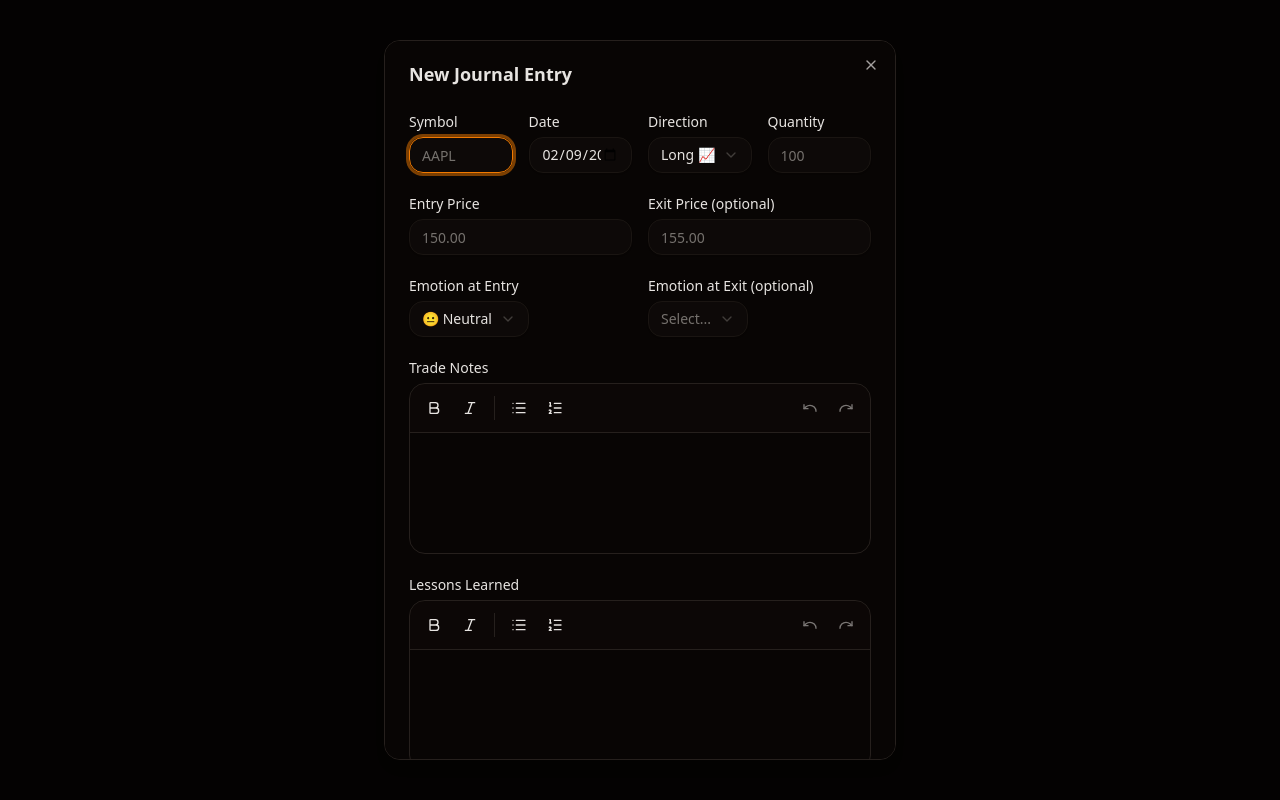
JournalEntryDialog › form interactions › changes emotion at entry
The image size is (1280, 800).
Click the dropdown labelled "😐 Neutral". click: (469, 319)
box: [409,301,529,337]
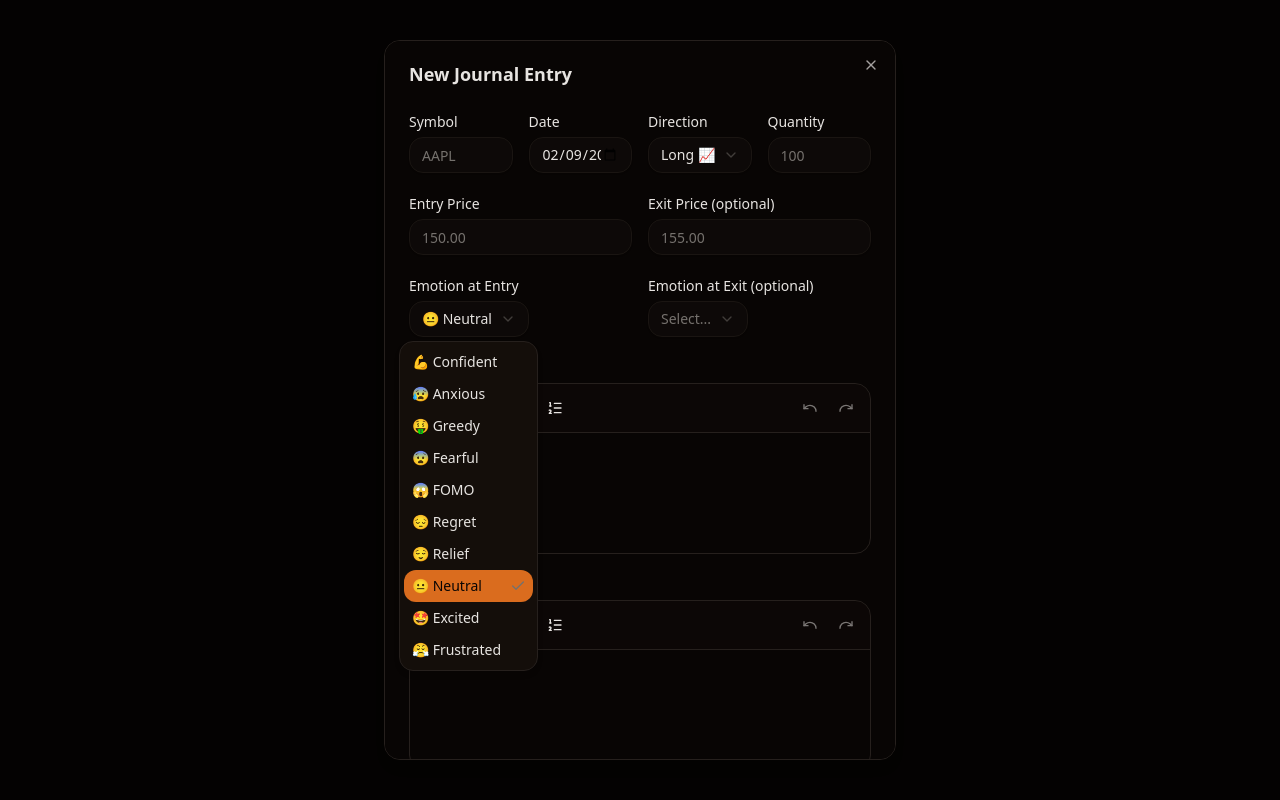
Click the option "💪 Confident". click: (455, 362)
box: [412,352,497,371]
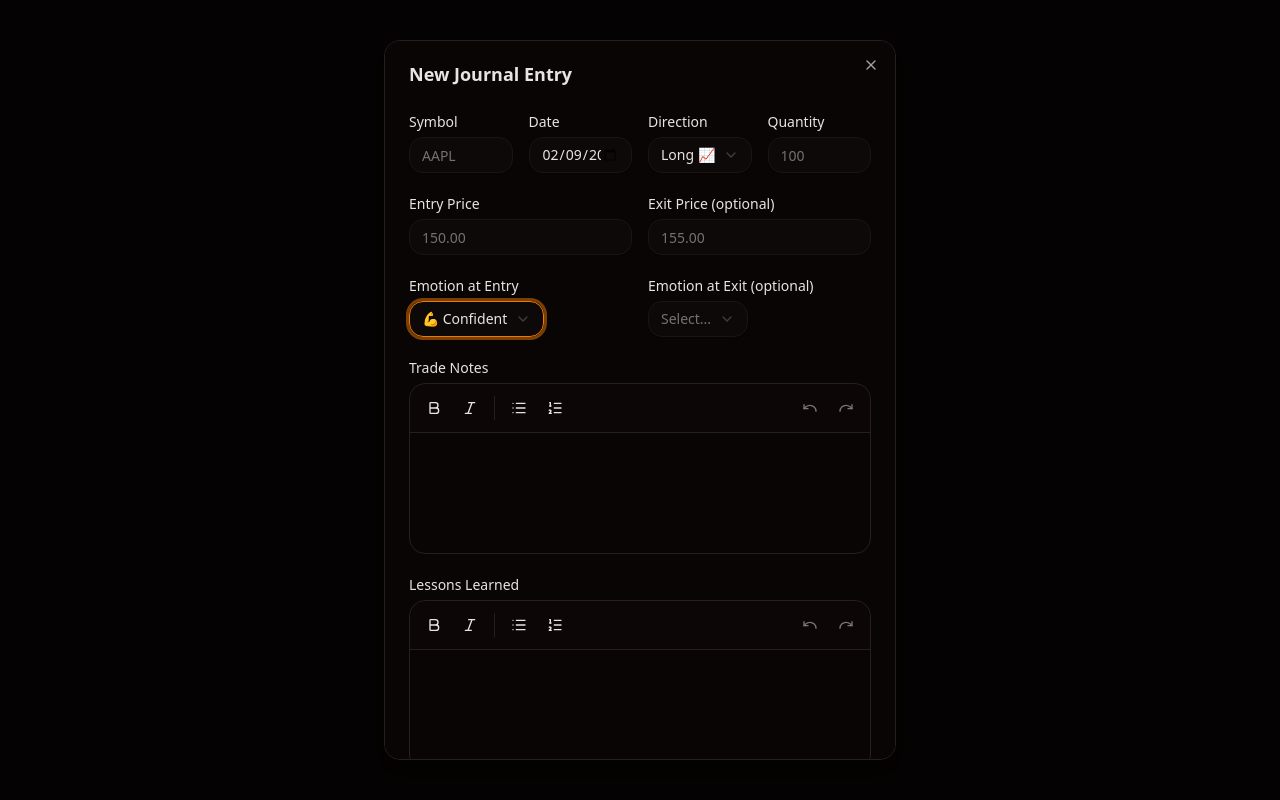
expect the dropdown labelled "💪 Confident" is shown: met, box [409,301,544,337]
